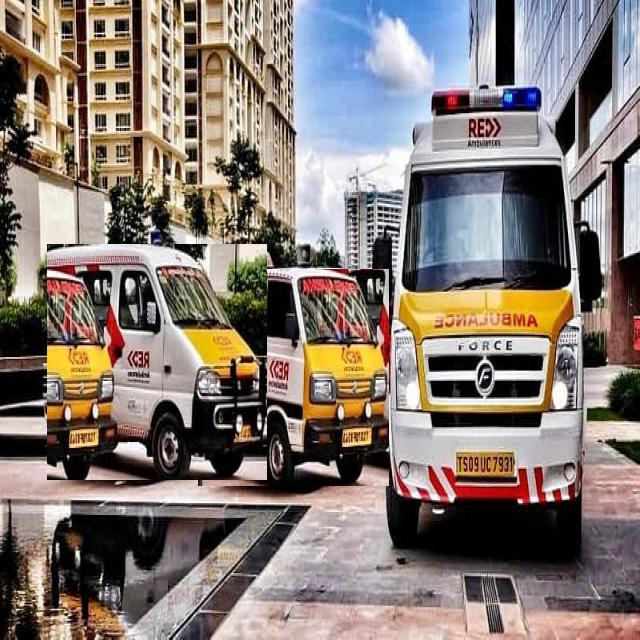emergency: (386, 88, 600, 555), (48, 244, 267, 480), (199, 270, 389, 486)
